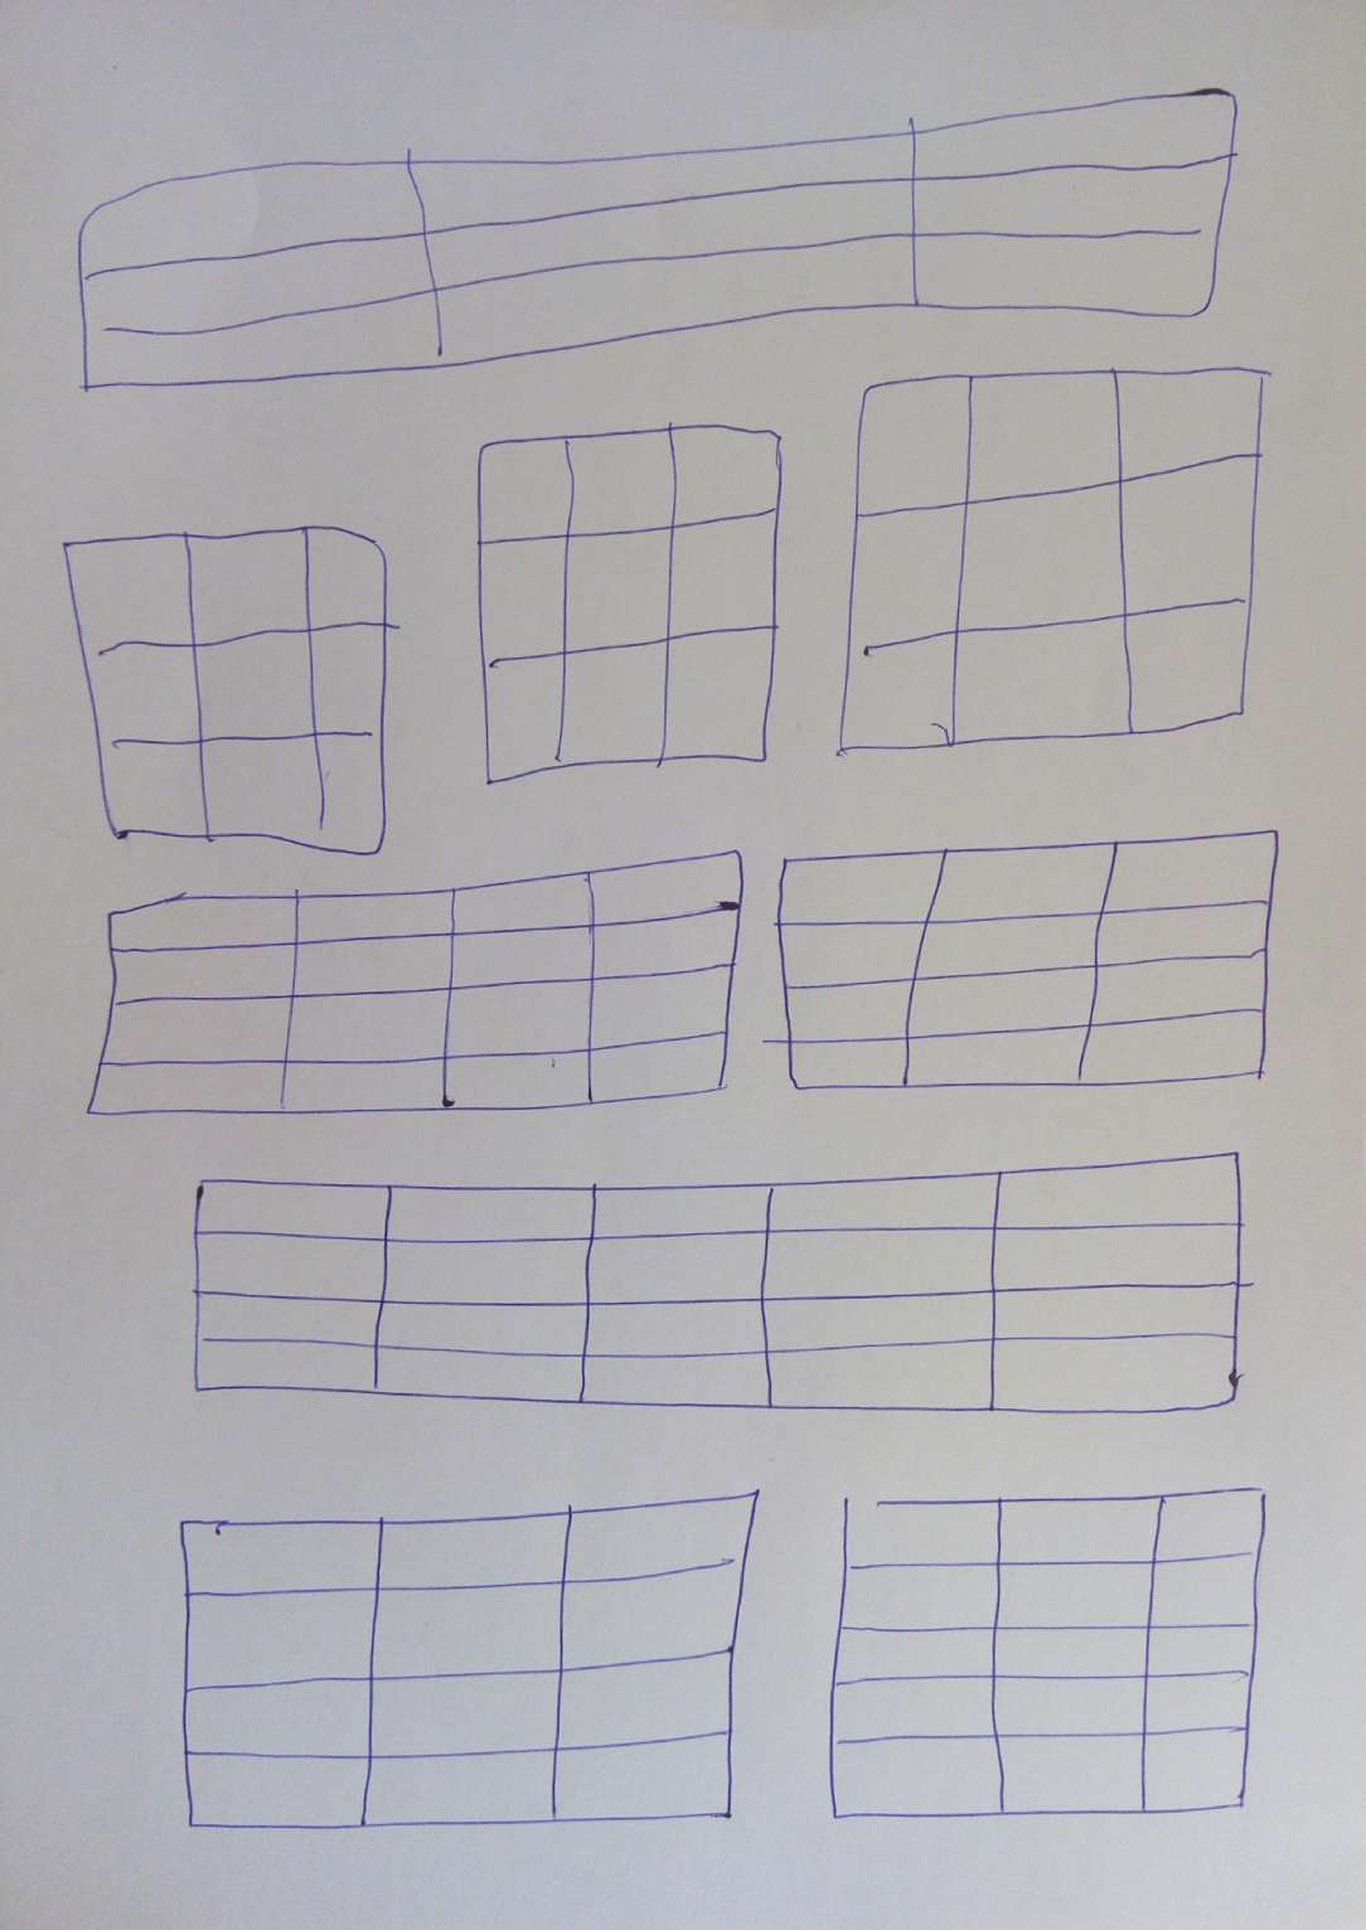Table: (78, 89, 1237, 392), (191, 1153, 1254, 1414), (180, 1490, 760, 1830), (86, 850, 744, 1116), (835, 366, 1271, 758), (829, 1478, 1271, 1819), (761, 826, 1280, 1091), (62, 525, 401, 856), (478, 423, 782, 785)
